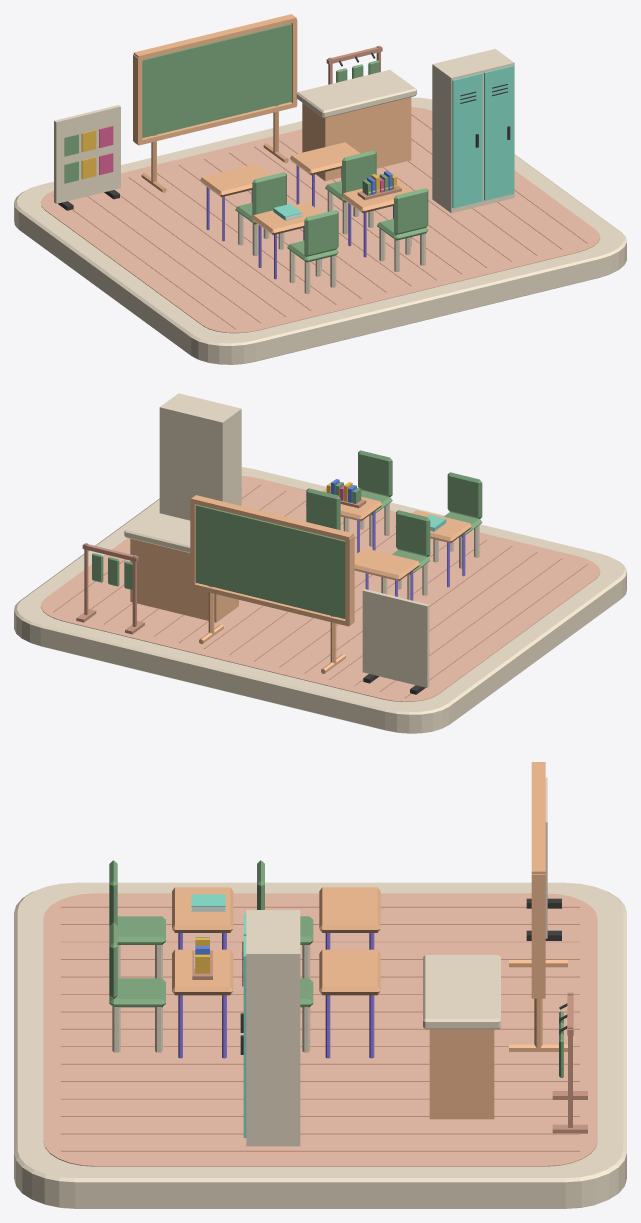
The model's file is room.fbx.
3 renders of one model, top to bottom at view 1: azimuth 30°, elevation 25°; view 2: azimuth 150°, elevation 25°; view 3: azimuth 270°, elevation 25°, orthographic. The views are drawn at different scales.
Visible parts, largest first — view 1: COM-02 Floor Surface, COM-01 Rounded Base Direct, Board, Desk body, Case, Panel, Door.001, Door, Desk top, Rail.001, Backrest, Backrest.001 (+9 smaller); view 2: COM-02 Floor Surface, COM-01 Rounded Base Direct, Board, Case, Panel, Desk body, Desk top, Rail.001, Backrest, Rounded table top.002, Backrest.001, Backrest.002 (+6 smaller); view 3: COM-02 Floor Surface, COM-01 Rounded Base Direct, Case, Desk body, Desk top, Rounded table top.003, Rounded table top.002, Rounded table top, Rounded table top.001, Frame.001, Rail.001, Seat.001 (+11 smaller).
Boxes of the visible parts, x1,y1,x2,y2 form: COM-02 Floor Surface: (40, 107, 600, 333); COM-01 Rounded Base Direct: (14, 97, 626, 364); Board: (142, 23, 291, 137); Desk body: (302, 97, 411, 181); Case: (432, 49, 514, 213); Panel: (54, 105, 120, 203); Door.001: (484, 65, 514, 200); Door: (452, 73, 482, 208); Desk top: (296, 69, 416, 118); Rail.001: (133, 14, 296, 60); Backrest: (304, 210, 338, 256); Backrest.001: (394, 188, 428, 234); COM-02 Floor Surface: (40, 476, 600, 701); COM-01 Rounded Base Direct: (14, 467, 626, 733); Board: (195, 504, 345, 618); Case: (159, 393, 241, 520); Panel: (362, 589, 429, 687); Desk body: (130, 538, 238, 622); Desk top: (124, 511, 190, 552); Rail.001: (191, 495, 353, 540); Backrest: (447, 472, 482, 518); Rounded table top.002: (354, 548, 419, 580); Backrest.001: (358, 450, 392, 496); Backrest.002: (396, 510, 430, 556); COM-02 Floor Surface: (43, 893, 597, 1166); COM-01 Rounded Base Direct: (14, 882, 626, 1208); Case: (246, 910, 300, 1146); Desk body: (429, 1029, 494, 1119); Desk top: (423, 955, 500, 1029); Rounded table top.003: (319, 949, 380, 995); Rounded table top.002: (319, 887, 380, 932); Rounded table top: (172, 887, 233, 932); Rounded table top.001: (172, 949, 233, 995); Frame.001: (531, 874, 545, 997); Rail.001: (531, 762, 545, 874); Seat.001: (109, 978, 165, 1007).
Bounding box in the file's own units: 600 × 210 × 520.
